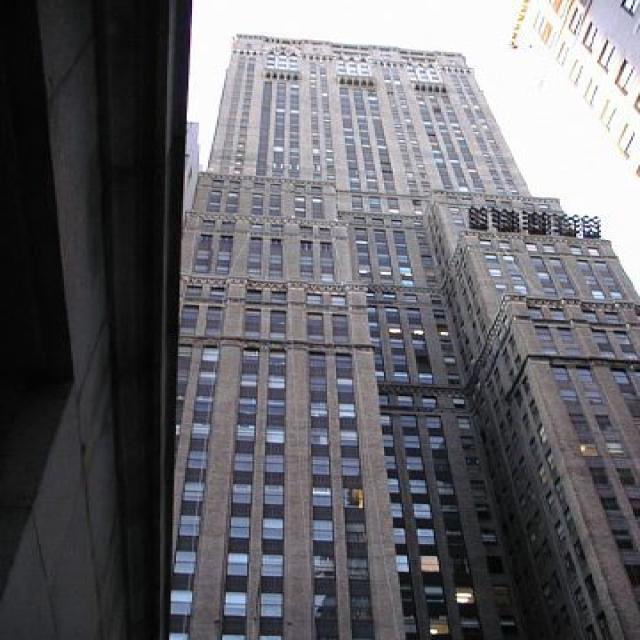building: (181, 26, 639, 640), (0, 0, 200, 640), (504, 0, 640, 189)
